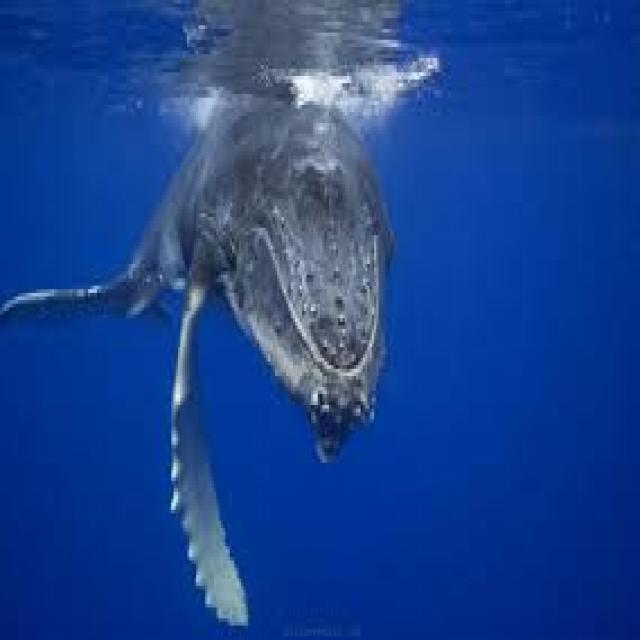blue_whale: (0, 61, 408, 640)
